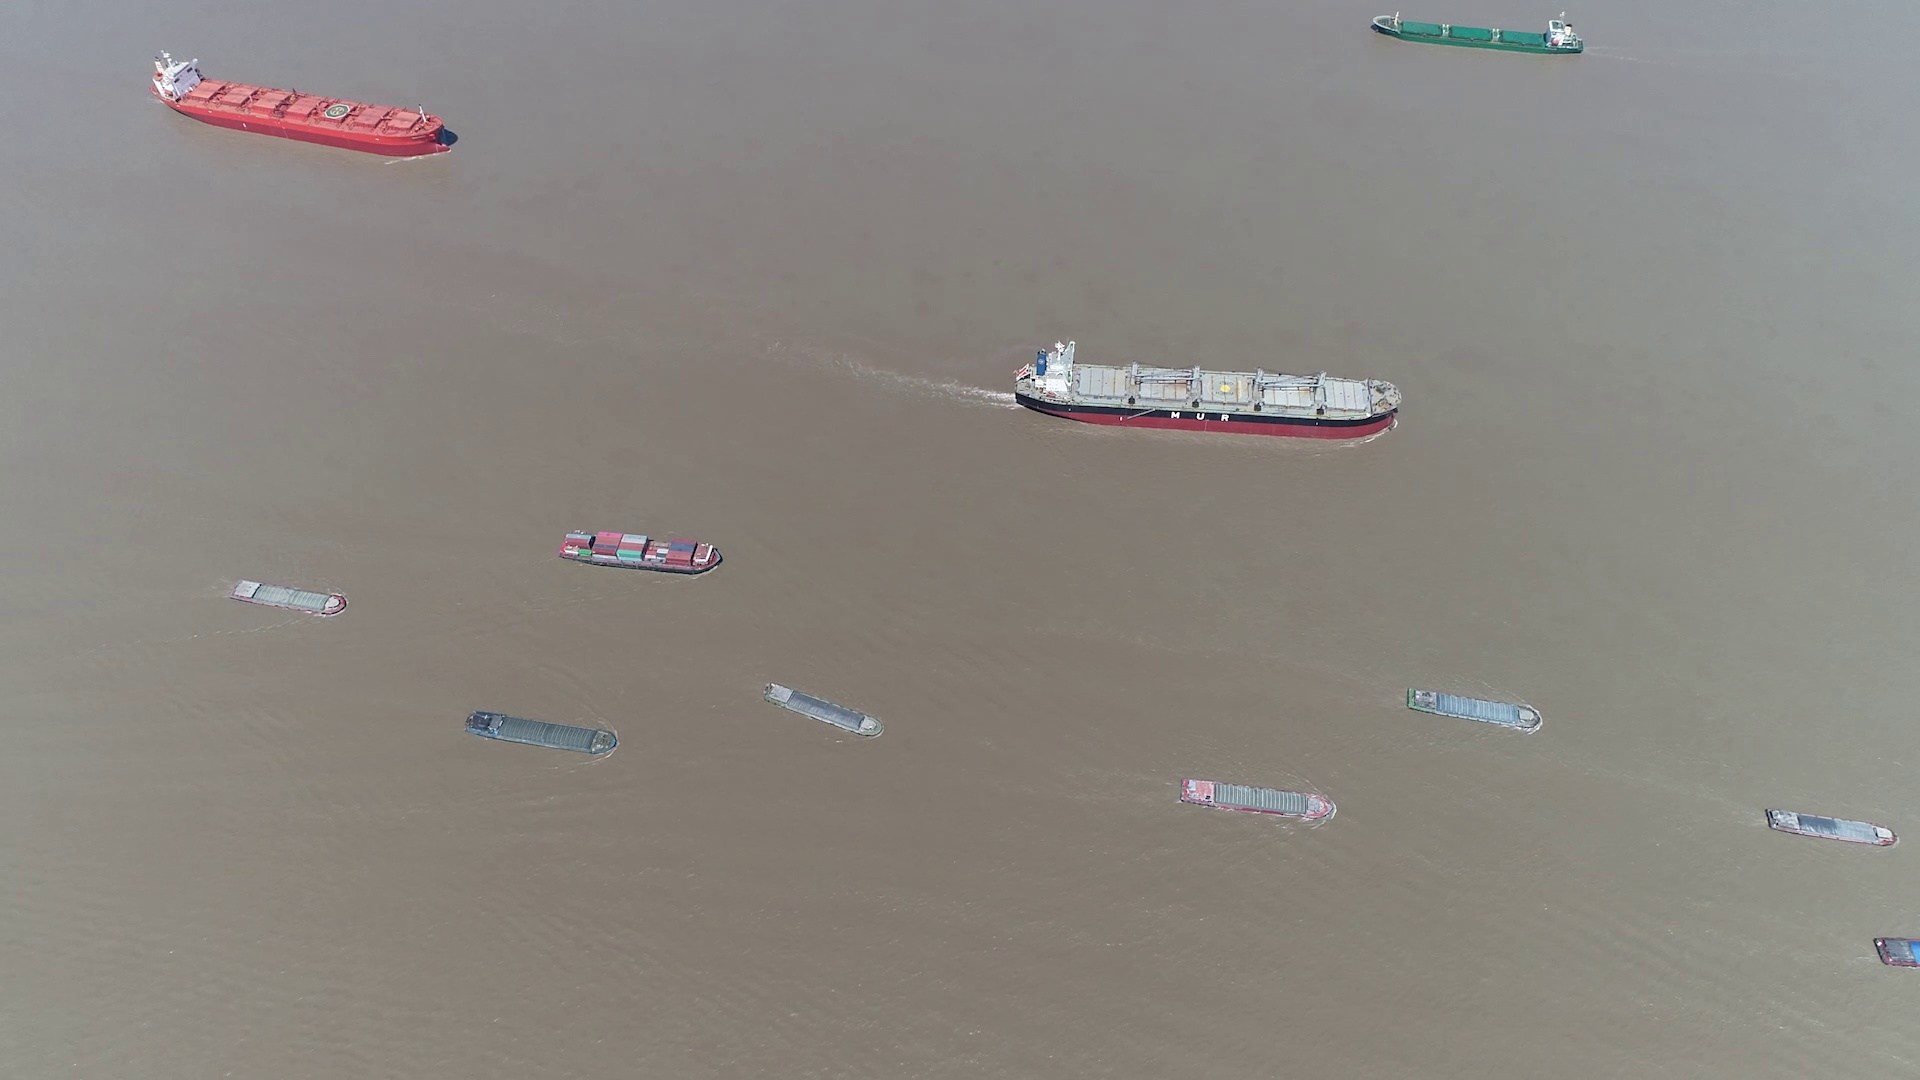ship: (1013, 345, 1403, 440), (154, 50, 452, 154), (1367, 11, 1585, 55), (559, 527, 724, 576), (467, 711, 617, 757), (766, 683, 885, 738), (1182, 779, 1335, 822), (1404, 687, 1542, 731), (1763, 808, 1899, 848), (229, 580, 347, 616), (1874, 936, 1919, 968)
